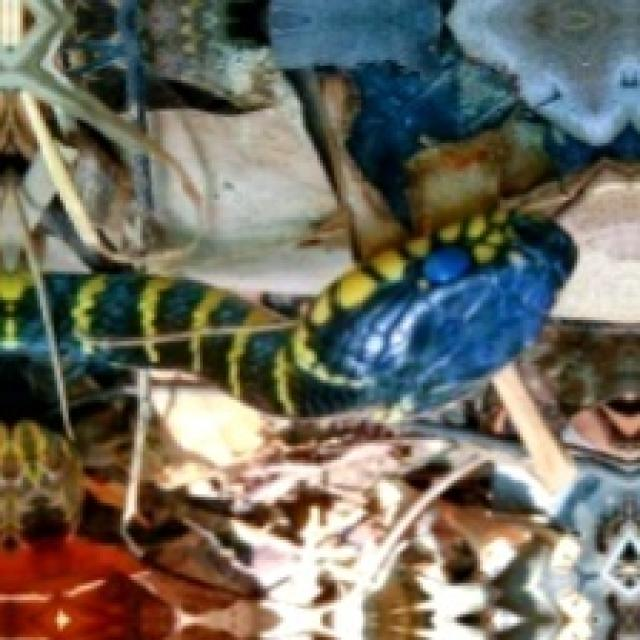mangrove cat snake: (46, 215, 574, 414)
